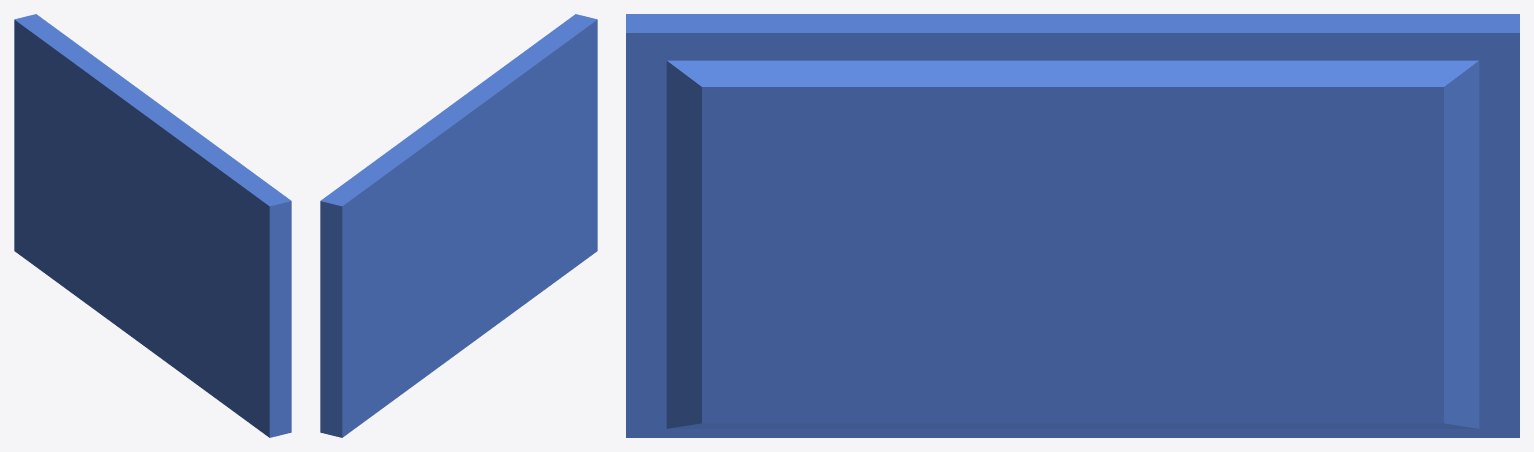
The model's file is TopPlates_Straight_Collision.fbx.
3 renders of one model, left to right at view 1: azimuth 30°, elevation 25°; view 2: azimuth 150°, elevation 25°; view 3: azimuth 270°, elevation 25°, orthographic. The views are drawn at different scales.
Visible parts, largest first — view 1: TopPlates_Straight_Collision; view 2: TopPlates_Straight_Collision; view 3: TopPlates_Straight_Collision.
Part boxes in pixels (x1,y1,x2,y2): TopPlates_Straight_Collision: (14,14,291,437); TopPlates_Straight_Collision: (320,14,597,437); TopPlates_Straight_Collision: (626,14,1519,437).
Size of the model in its own units: 31.16 by 200 by 400.
